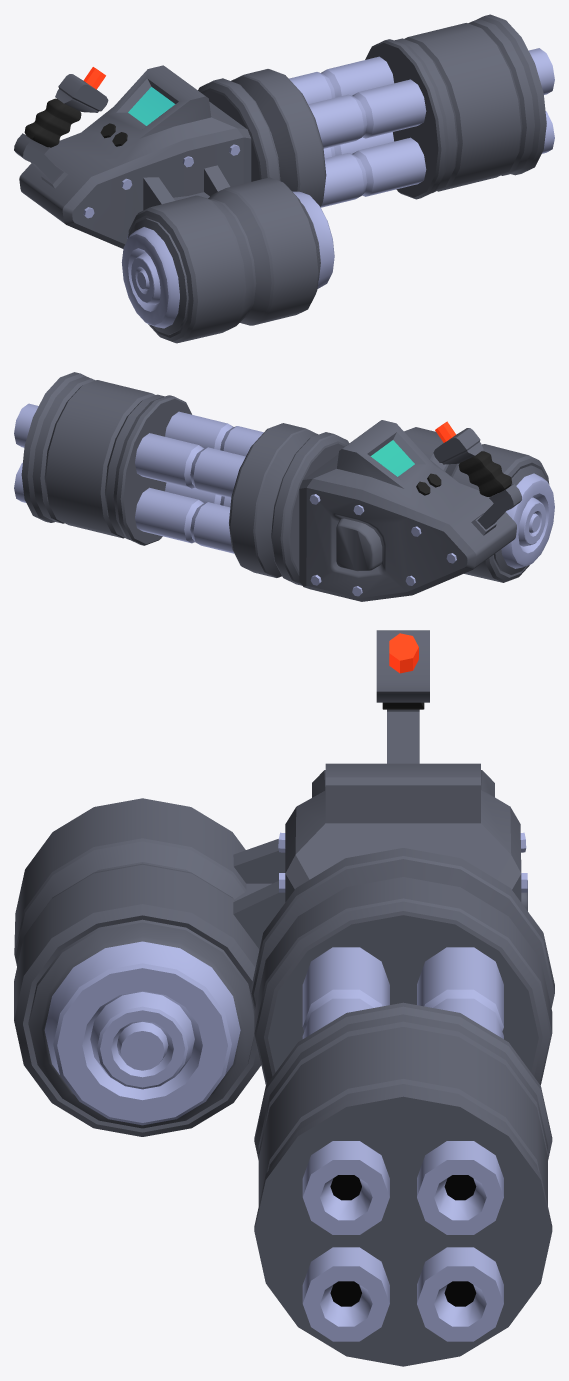
File: Minigun1.fbx
The picture shows the model from 3 angles, top to bottom: view 1: azimuth 30°, elevation 25°; view 2: azimuth 150°, elevation 25°; view 3: azimuth 270°, elevation 25°; orthographic projection. The views are drawn at different scales.
Parts seen in each view (by area): view 1: muzzle1, main, drum, muzzle2; view 2: main, muzzle1, muzzle2, drum; view 3: muzzle1, drum, muzzle2, main.
Boxes of the visible parts, x1,y1,x2,y2 form: muzzle1: (198, 14, 546, 206); main: (14, 65, 251, 248); drum: (121, 177, 334, 343); muzzle2: (289, 48, 554, 207); main: (299, 420, 521, 601); muzzle1: (21, 372, 349, 585); muzzle2: (14, 403, 263, 553); drum: (404, 427, 554, 582); muzzle1: (251, 848, 554, 1366); drum: (14, 798, 261, 1136); muzzle2: (302, 947, 503, 1341); main: (233, 630, 527, 949).
Bounding box in the file's own units: 537 × 220 × 270.
